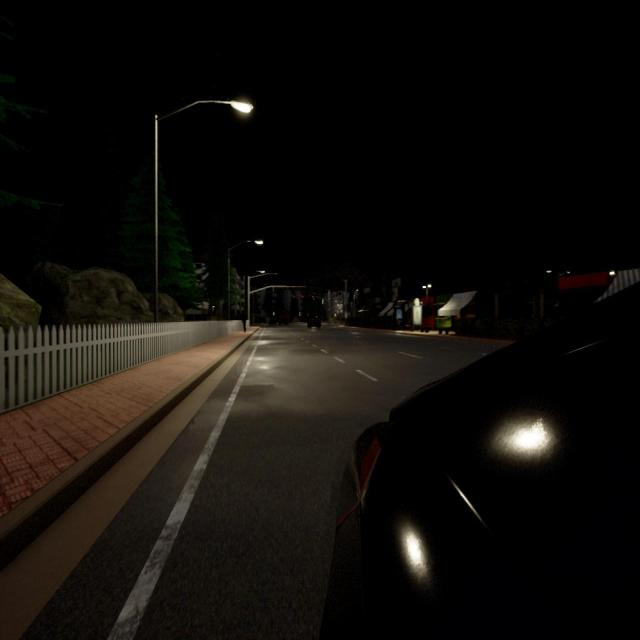Vehicle: (321, 285, 640, 639), (307, 316, 321, 329), (278, 314, 290, 326), (268, 316, 277, 325)
traffic_light: (301, 295, 304, 300), (293, 295, 295, 299), (312, 295, 314, 299), (328, 309, 330, 312), (273, 286, 274, 292)
